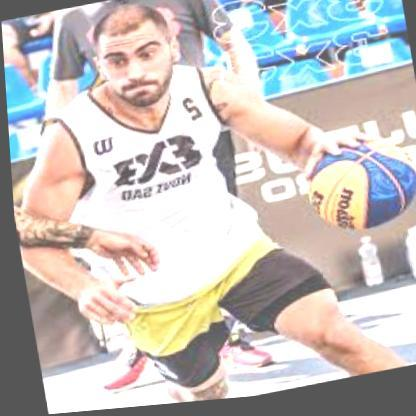basketball: (298, 139, 416, 244)
